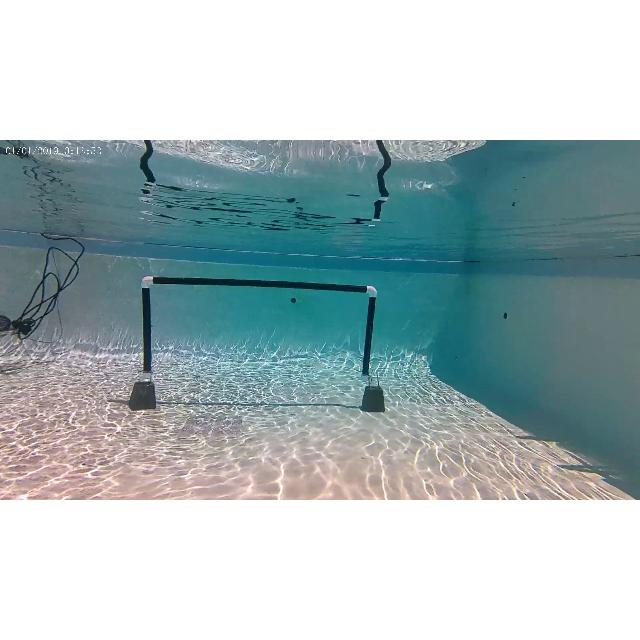prequal gate: (140, 274, 378, 382)
prequal gate leg l: (134, 276, 158, 416)
prequal gate leg r: (358, 285, 384, 413)
